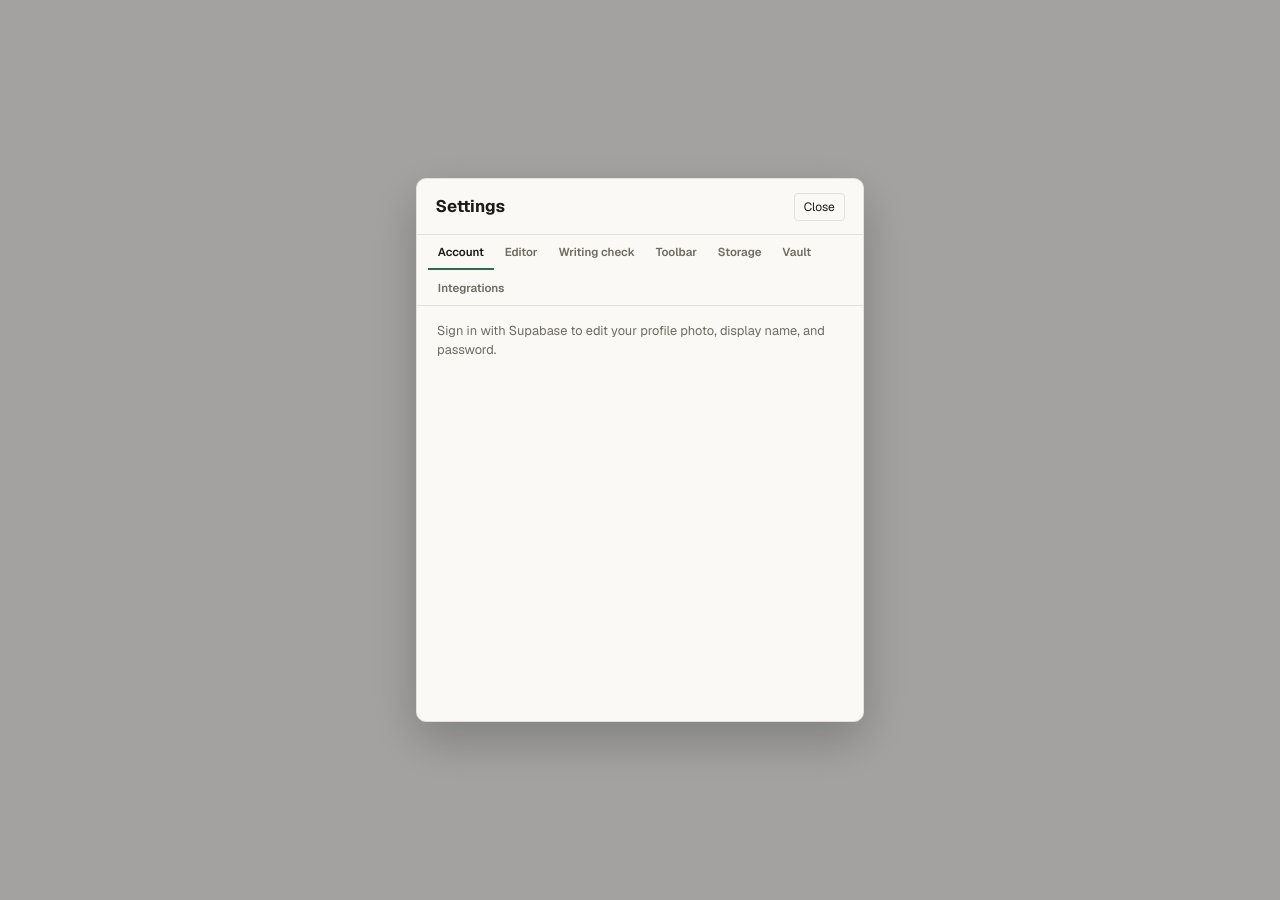
SettingsPanel › keeps phone and typing prefs on Editor, not Account
The image size is (1280, 900).
Expected: the text "Phone" is not shown
Click the tab "Editor": coordinates (521, 253) 495,235 -> 547,270
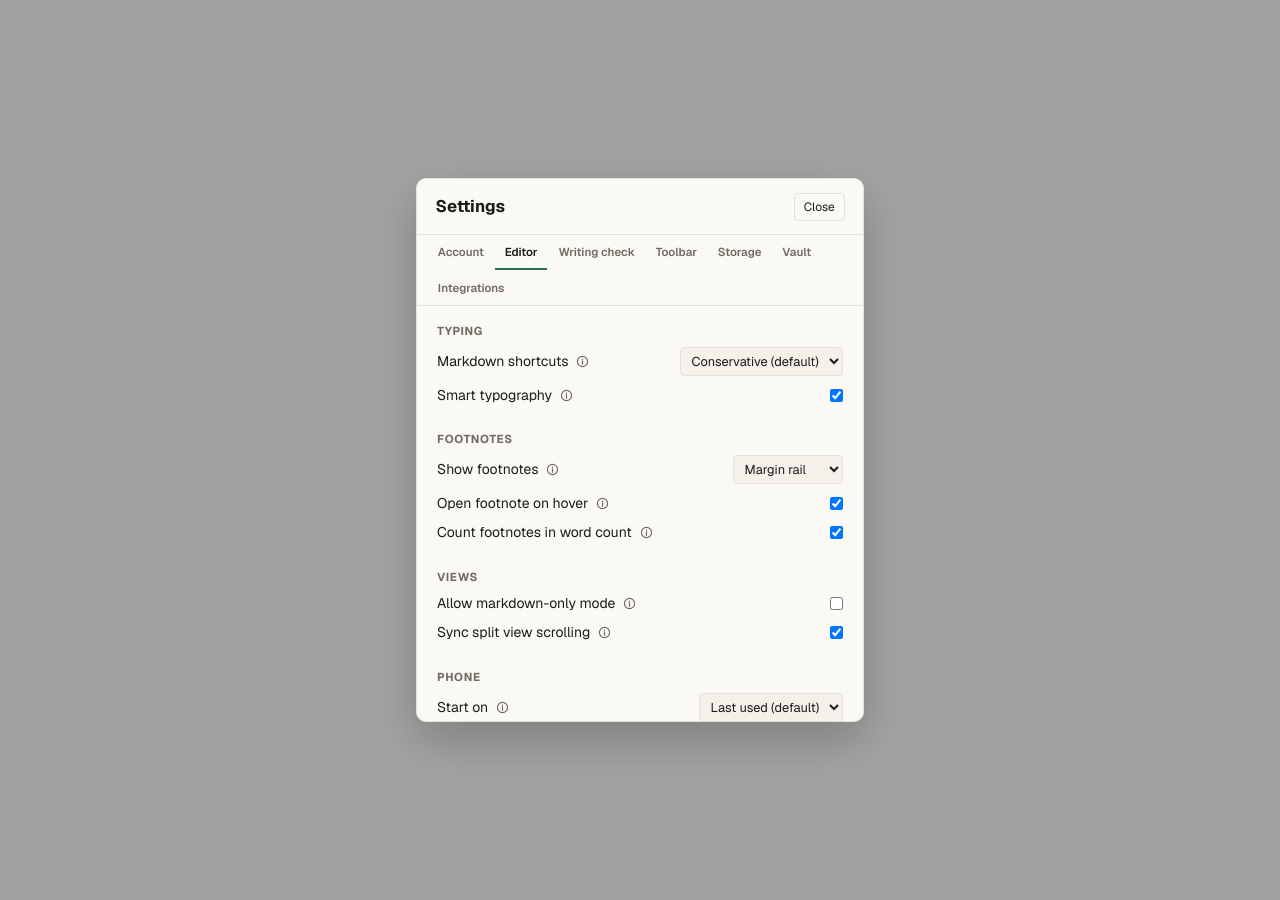
Result: the text "Phone" is shown at 437,669 -> 481,684
Result: the text "Markdown shortcuts" is shown at 437,351 -> 592,372
Result: the text "Count footnotes in word count" is shown at 437,522 -> 655,543
